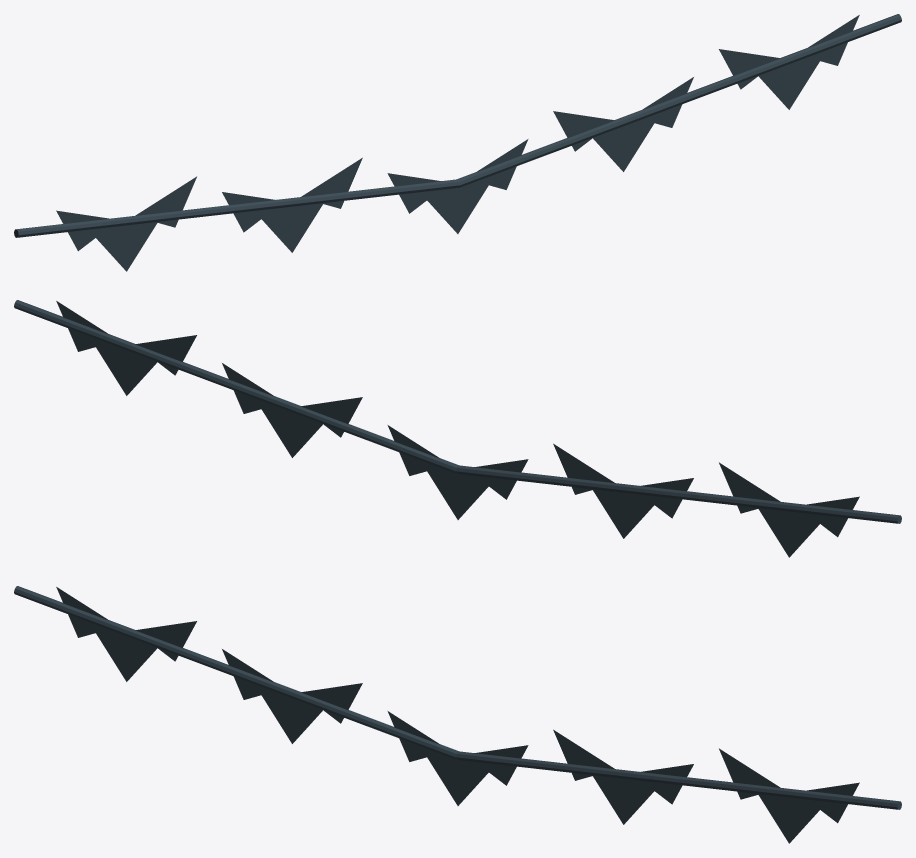
The model's file is bat_garland.glb.
3 views of the same model, one above another, from view 1: azimuth 30°, elevation 25°; view 2: azimuth 150°, elevation 25°; view 3: azimuth 330°, elevation 25° (orthographic).
Parts seen in each view (by area): view 1: cord1, cord0, bat, bat.001, bat.004, bat.003, bat.002; view 2: cord1, cord0, bat, bat.001, bat.004, bat.003, bat.002; view 3: cord0, cord1, bat.003, bat.004, bat, bat.001, bat.002.
Part boxes in pixels (x1,y1,x2,y2): cord1: [457, 14, 901, 187]; cord0: [14, 179, 460, 237]; bat: [56, 176, 196, 271]; bat.001: [222, 157, 362, 252]; bat.004: [719, 15, 859, 109]; bat.003: [553, 77, 693, 171]; bat.002: [387, 139, 528, 233]; cord1: [14, 300, 458, 473]; cord0: [455, 465, 901, 523]; bat: [719, 462, 859, 557]; bat.001: [553, 443, 693, 538]; bat.004: [56, 301, 196, 395]; bat.003: [222, 363, 362, 457]; bat.002: [387, 425, 528, 519]; cord0: [14, 586, 458, 759]; cord1: [455, 751, 901, 809]; bat.003: [553, 729, 693, 824]; bat.004: [719, 748, 859, 843]; bat: [56, 587, 196, 681]; bat.001: [222, 649, 362, 743]; bat.002: [387, 711, 528, 805].
Size of the model in its own units: 4 by 0.5275 by 0.036.
